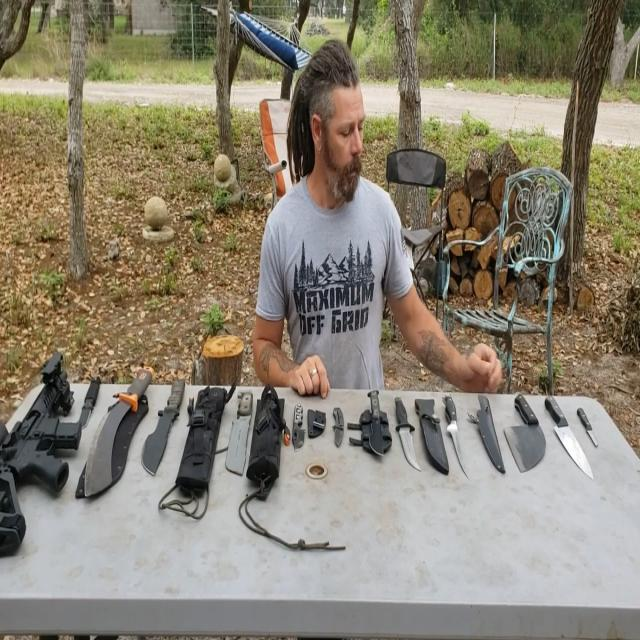knife: (83, 351, 150, 503), (211, 370, 271, 505), (136, 358, 203, 462), (498, 371, 541, 474), (545, 399, 601, 477), (434, 385, 473, 477), (282, 386, 325, 466), (389, 390, 427, 475), (363, 380, 395, 474), (69, 375, 107, 447), (572, 399, 608, 457), (322, 395, 350, 463)
long weapon: (0, 359, 99, 595)
